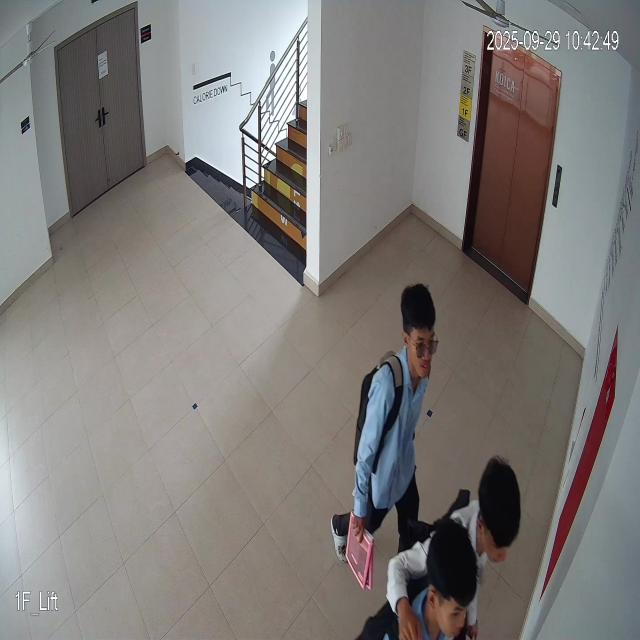face: (398, 280, 439, 385)
